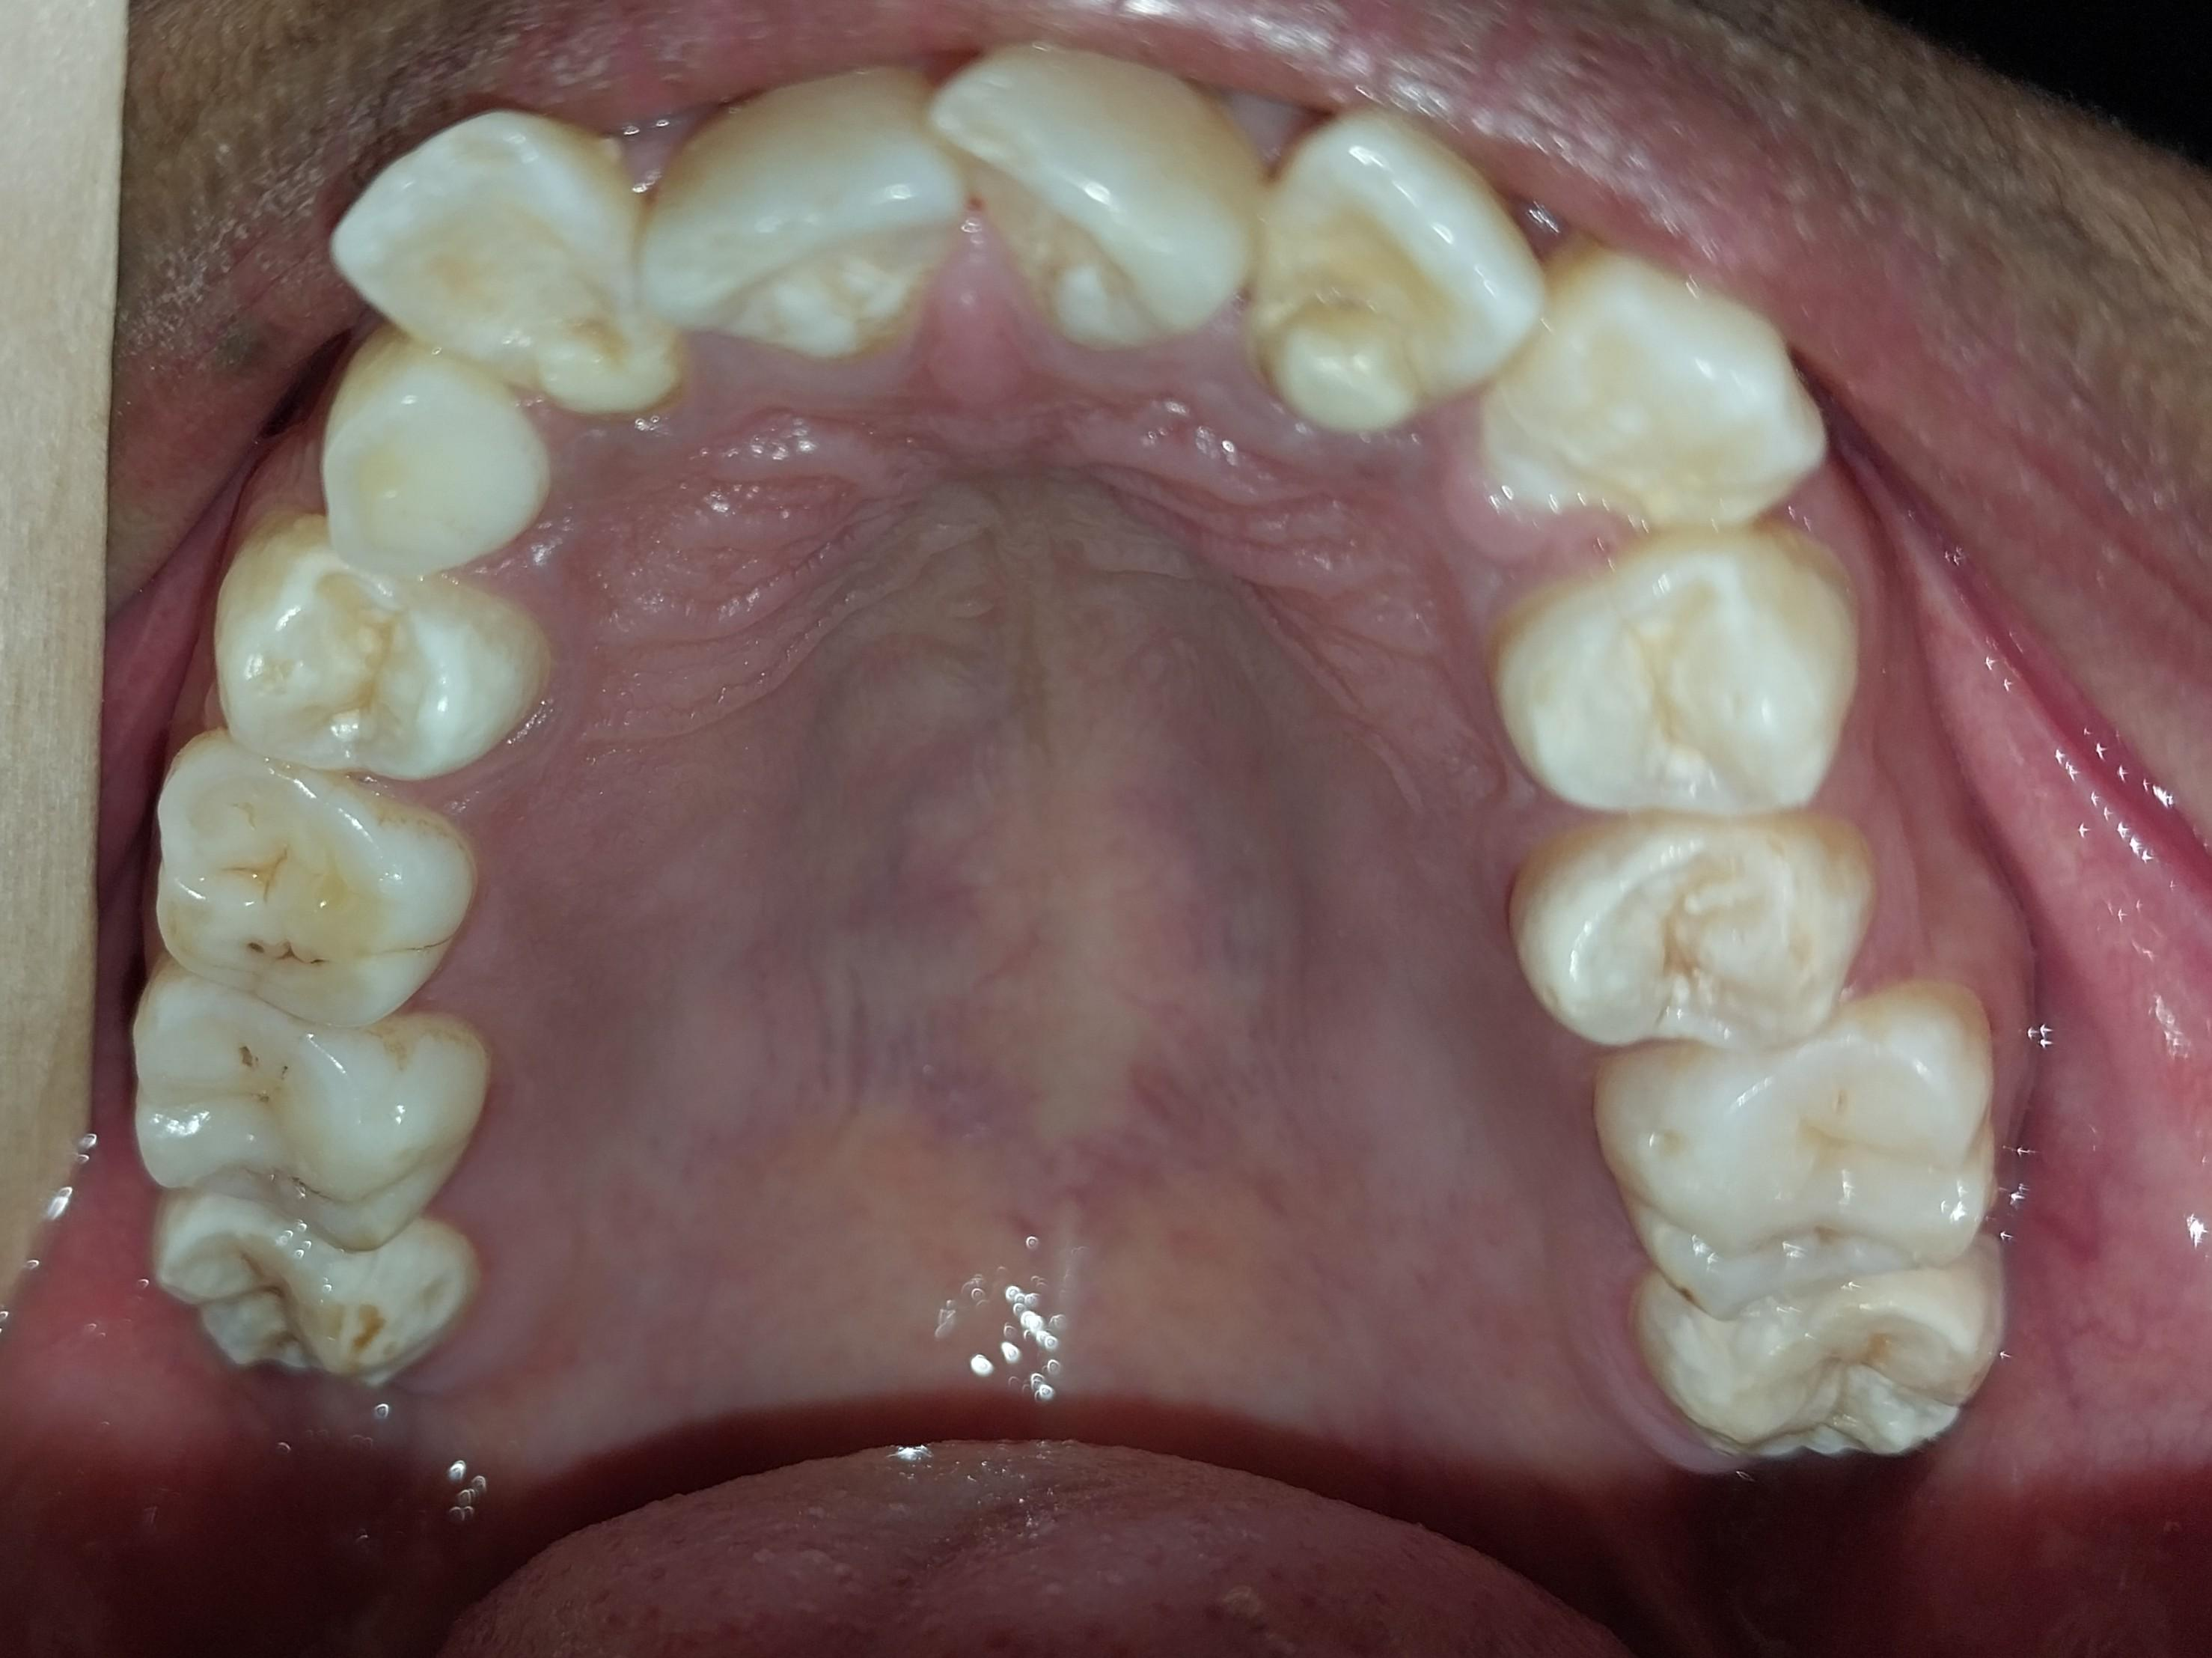D: (127, 969, 484, 1257)
d: (152, 733, 474, 1036)
